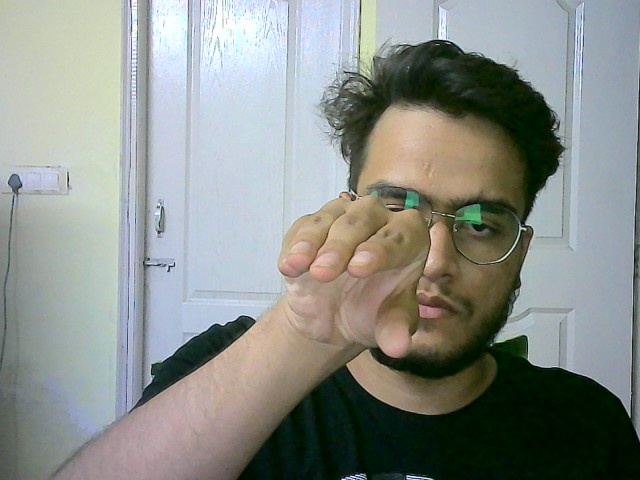No: (270, 187, 429, 378)
